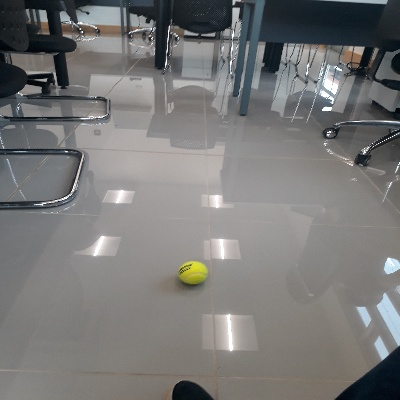Ball: (176, 261, 206, 285)
